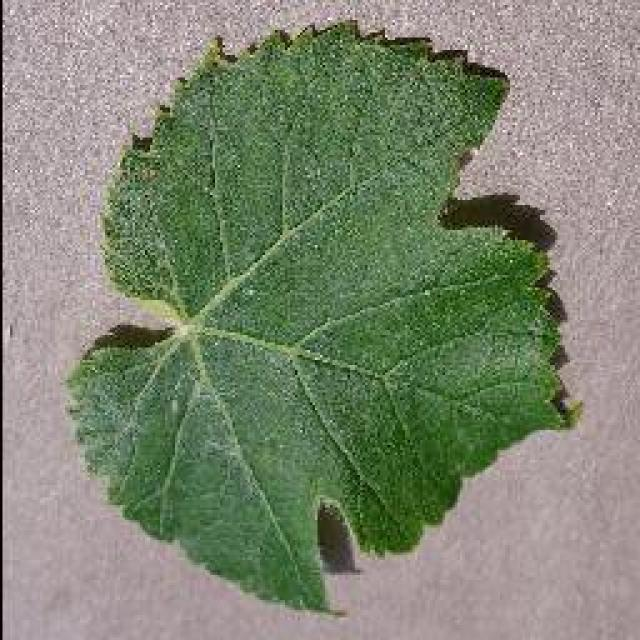Grape___healthy: (68, 20, 568, 608)
